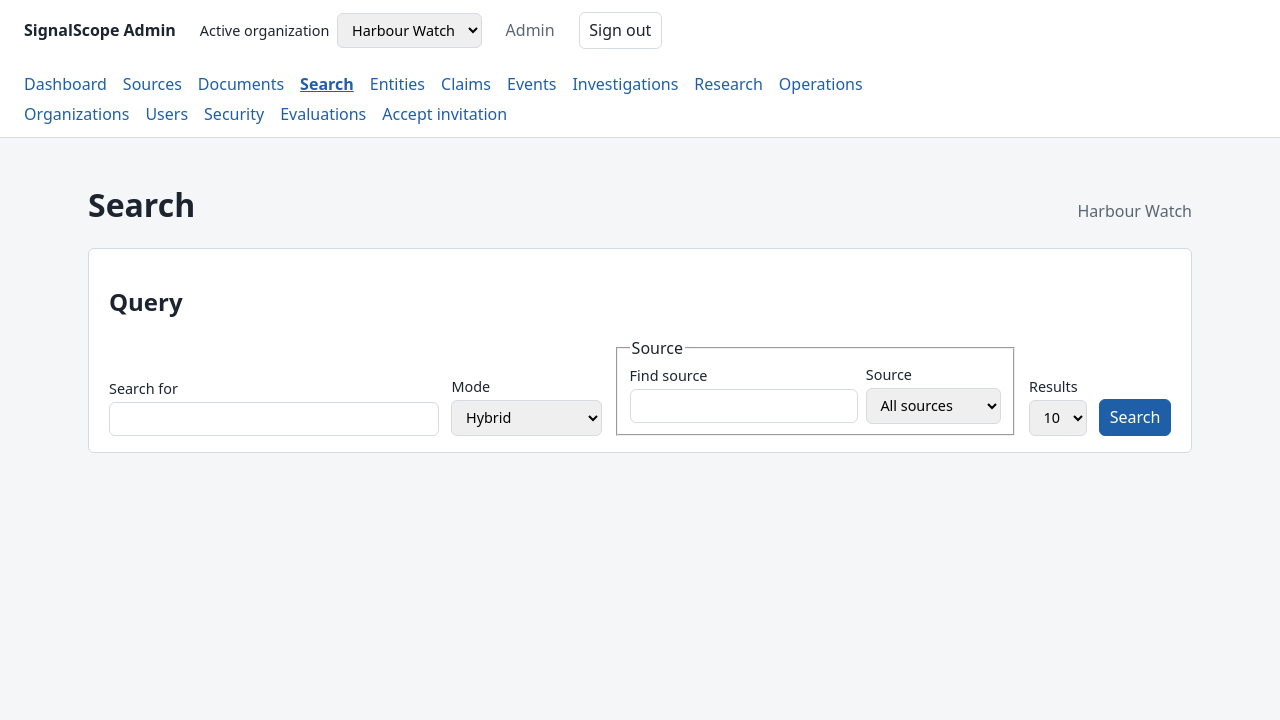
Test case: search workspace › runs lexical search
In the field labelled "Search for": (274, 419) [109,402,439,436], type "harbour"
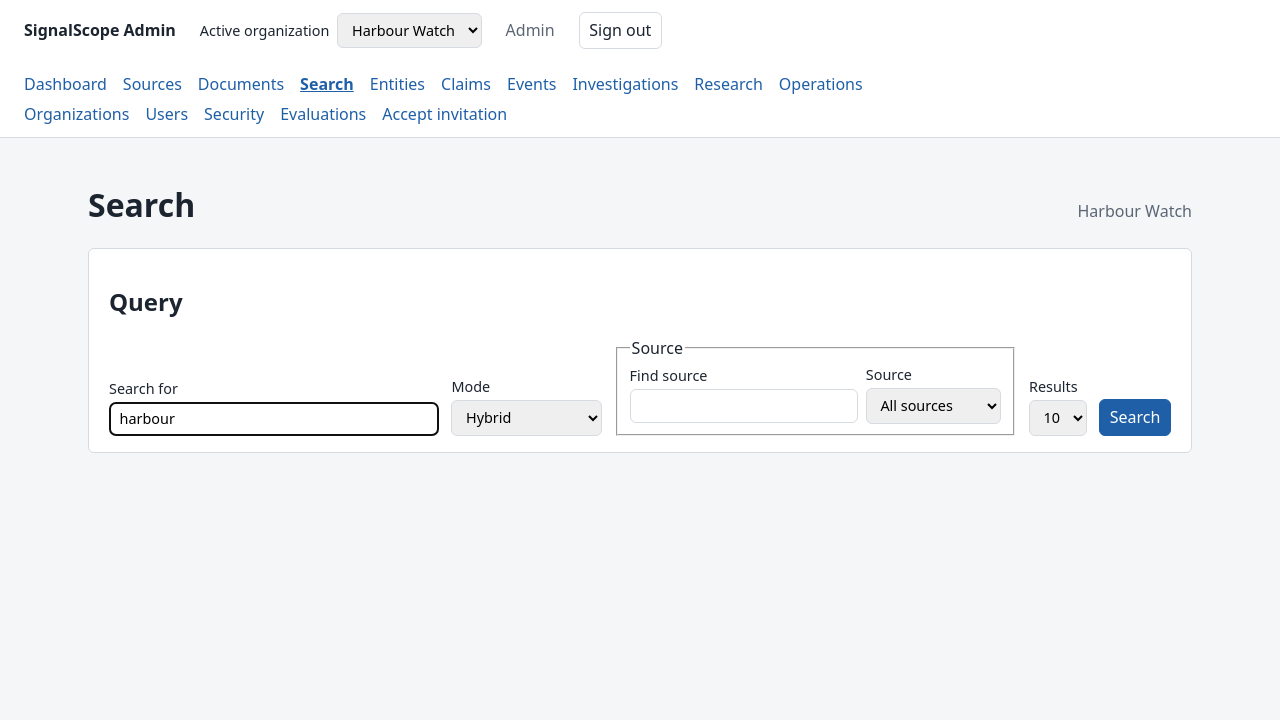
Select "Lexical (full text)" in the dropdown labelled "Mode": (526, 418) [451,400,602,436]
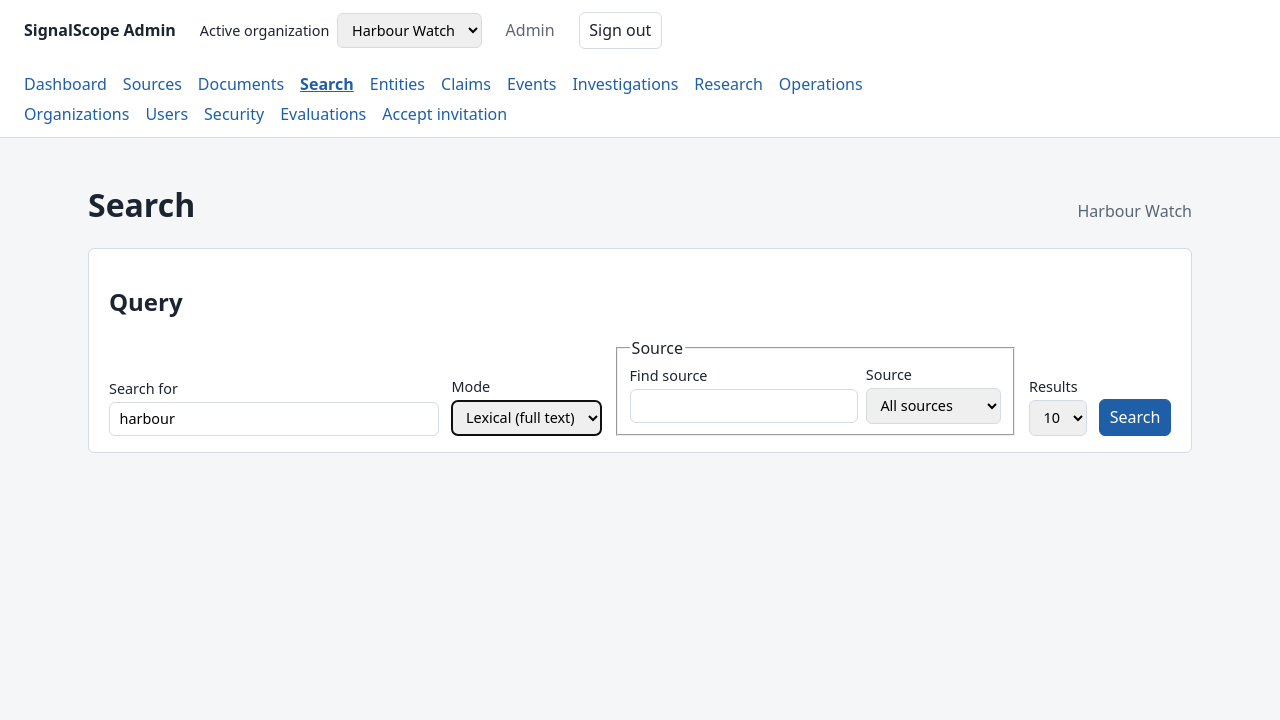
Click the button "Search": (1135, 418) [1099,399,1171,436]
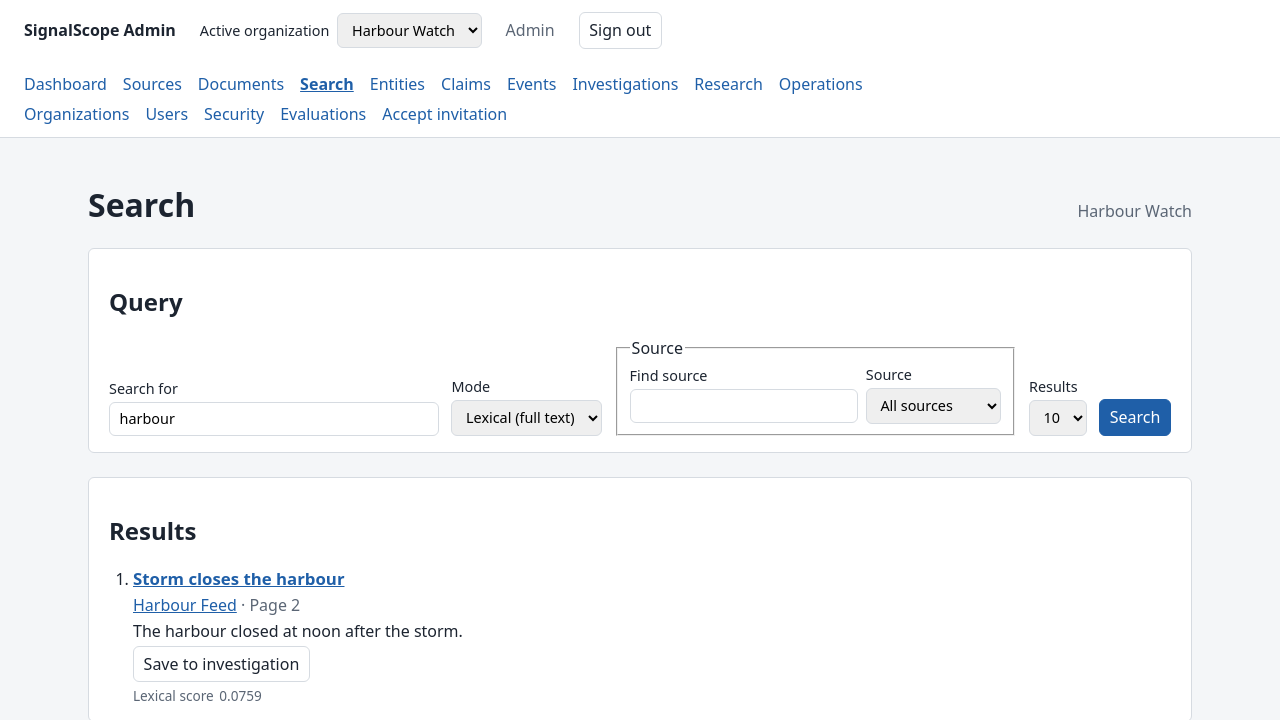
Expected: the text "0.0759" is shown, [219,686,262,705]
